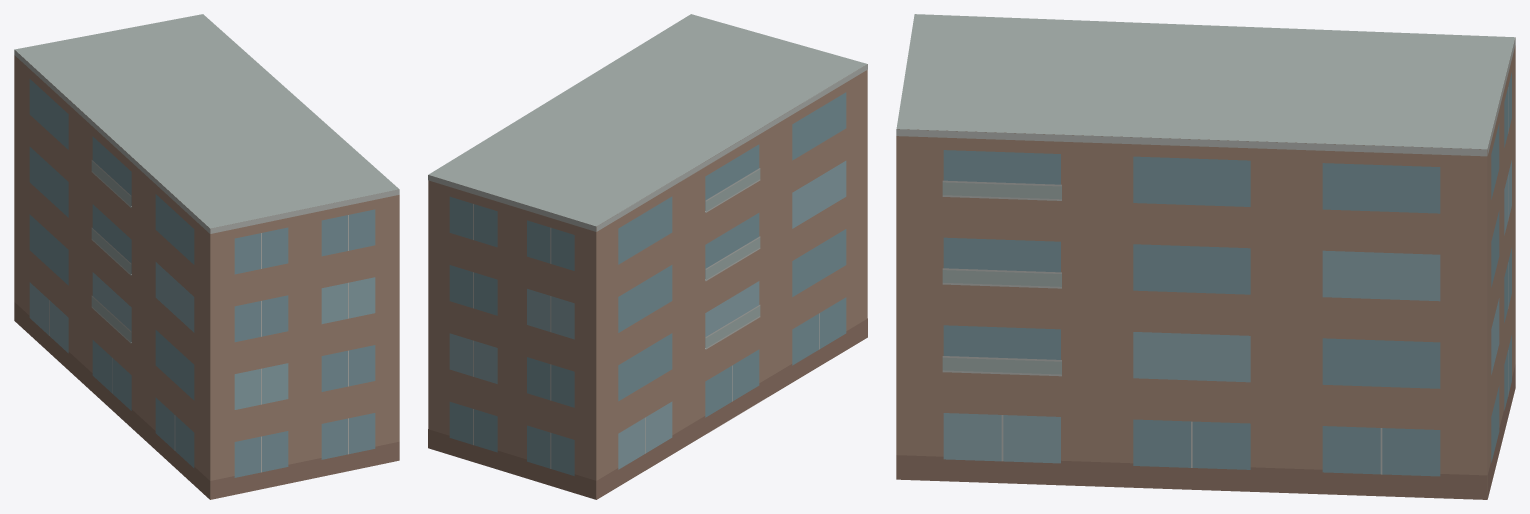
Rendered from survey-upis-32702106.glb.
The picture shows the model from 3 angles, left to right: view 1: azimuth 30°, elevation 25°; view 2: azimuth 150°, elevation 25°; view 3: azimuth 270°, elevation 25°; orthographic projection. The views are drawn at different scales.
Parts seen in each view (by area): view 1: survey-upis-32702106.tmp; view 2: survey-upis-32702106.tmp; view 3: survey-upis-32702106.tmp.
Boxes of the visible parts, x1,y1,x2,y2 form: survey-upis-32702106.tmp: (14,14,399,499); survey-upis-32702106.tmp: (428,14,867,499); survey-upis-32702106.tmp: (896,14,1515,499).
Size of the model in its own units: 10.03 by 12.1 by 19.38.
